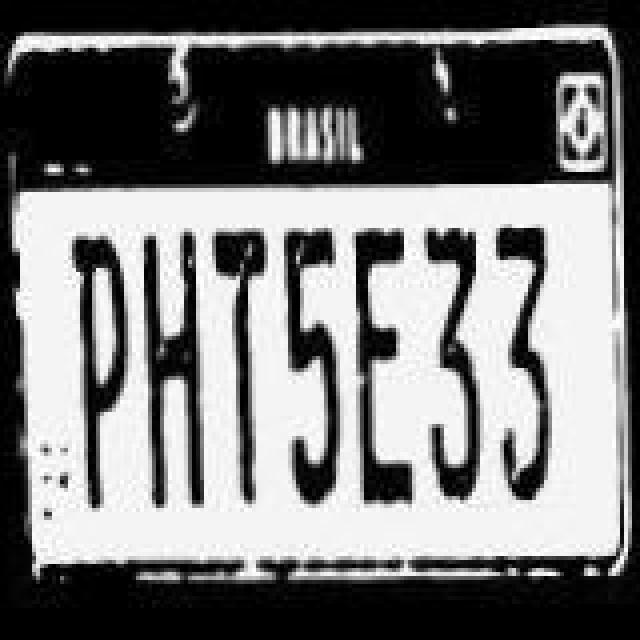3: (420, 226, 484, 506), (490, 222, 550, 506)
5: (278, 226, 338, 506)
E: (350, 224, 410, 508)
H: (140, 230, 204, 514)
P: (66, 234, 134, 510)
T: (210, 228, 270, 504)
